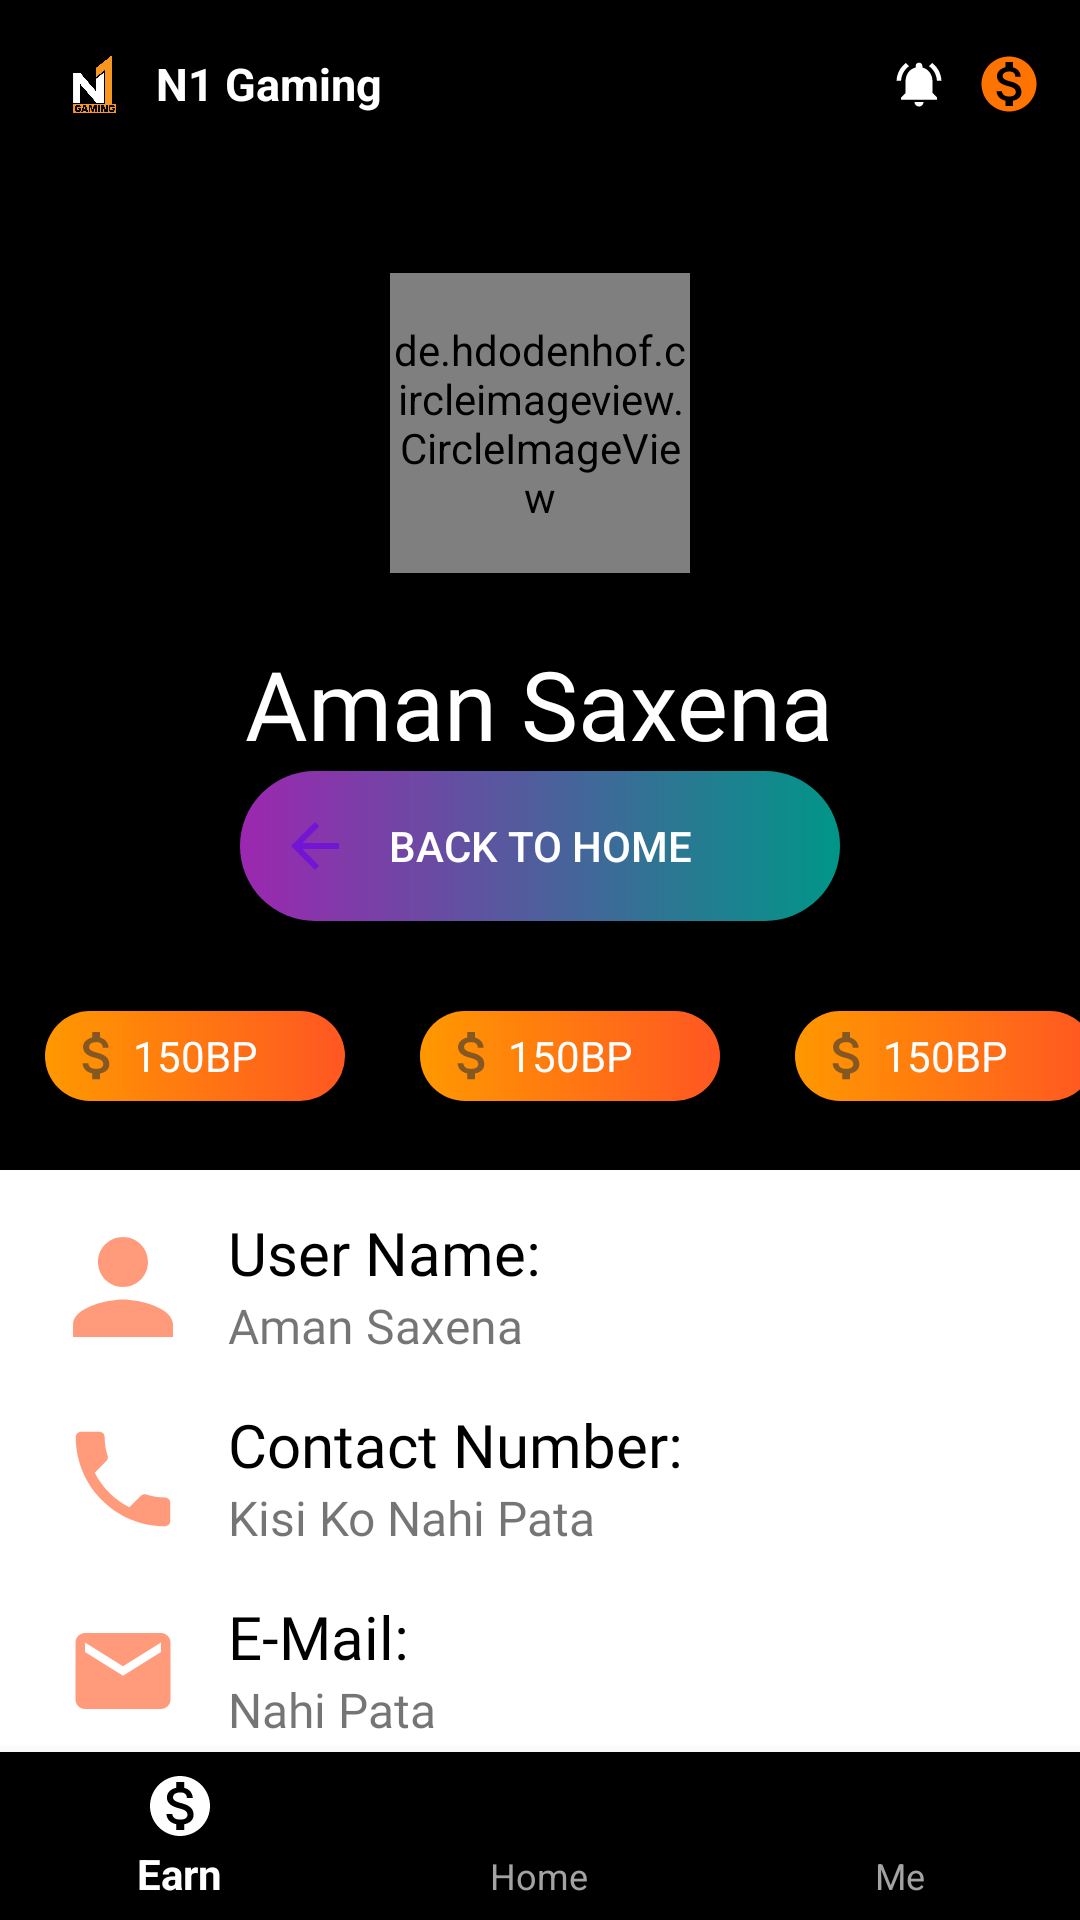

Icon click points for this 1080w x 1920h phone screenshot, format (x=x, y=y):
coin: (x=85, y=1055), (x=460, y=1055), (x=835, y=1055)
money: (x=1009, y=84)
notification imp: (x=919, y=84)
person: (x=123, y=1287)
phone: (x=123, y=1479)
